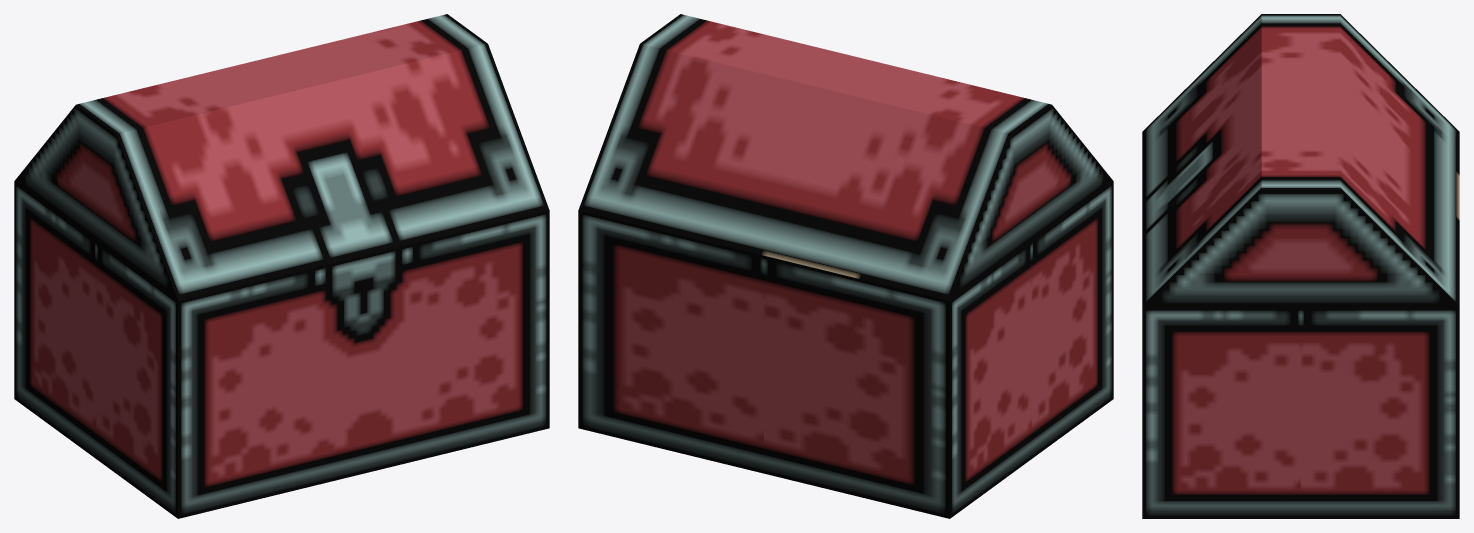
The model's file is deco_cathedral_chestLargeClosed.FBX.
3 renders of one model, left to right at view 1: azimuth 30°, elevation 25°; view 2: azimuth 150°, elevation 25°; view 3: azimuth 270°, elevation 25°, orthographic. The views are drawn at different scales.
Parts seen in each view (by area): view 1: deco_cathedral_chestLargeClosed; view 2: deco_cathedral_chestLargeClosed; view 3: deco_cathedral_chestLargeClosed.
Boxes of the visible parts, x1=… form: deco_cathedral_chestLargeClosed: x1=14, y1=14, x2=549, y2=518; deco_cathedral_chestLargeClosed: x1=578, y1=14, x2=1113, y2=518; deco_cathedral_chestLargeClosed: x1=1142, y1=14, x2=1459, y2=518.
Size of the model in its own units: 2.02 by 1.76 by 1.54.
Materials: 1 (1 with a texture image).
